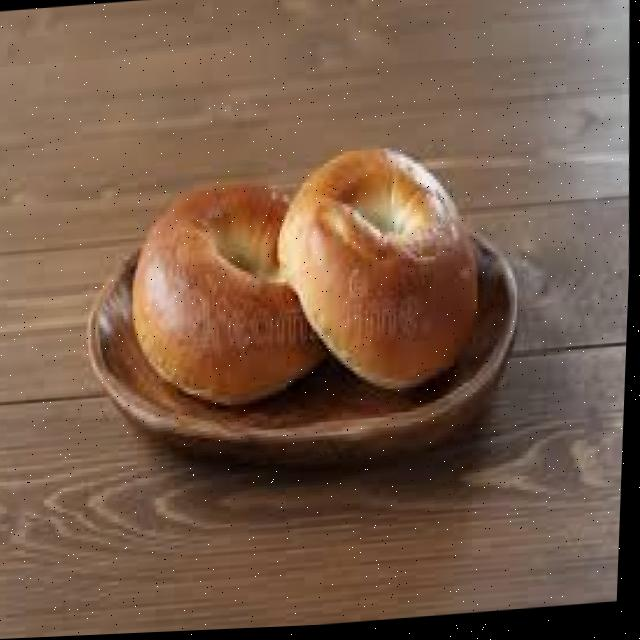Bagel: (281, 153, 480, 390), (139, 188, 327, 403)
